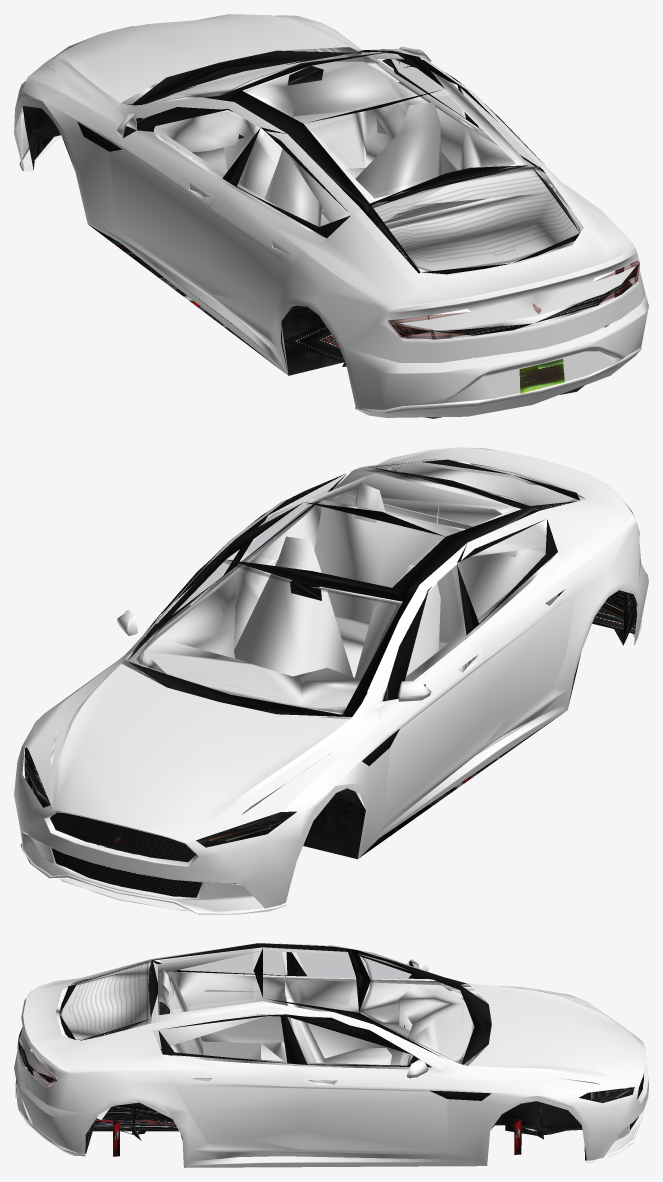
The model's file is raiden-lod.glb.
The picture shows the model from 3 angles, top to bottom: view 1: azimuth 30°, elevation 25°; view 2: azimuth 150°, elevation 25°; view 3: azimuth 270°, elevation 25°; orthographic projection. The views are drawn at different scales.
Size of the model in its own units: 2.04 by 1.26 by 4.91.
Materials: 14 (11 with a texture image).
